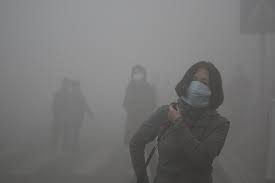person: (129, 58, 232, 183), (124, 65, 158, 153), (70, 78, 96, 152), (51, 73, 71, 151)
